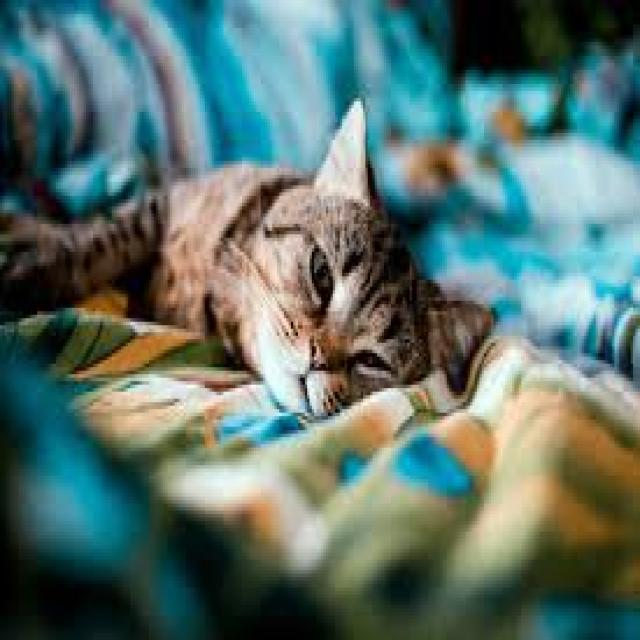cat: (244, 194, 403, 458)
